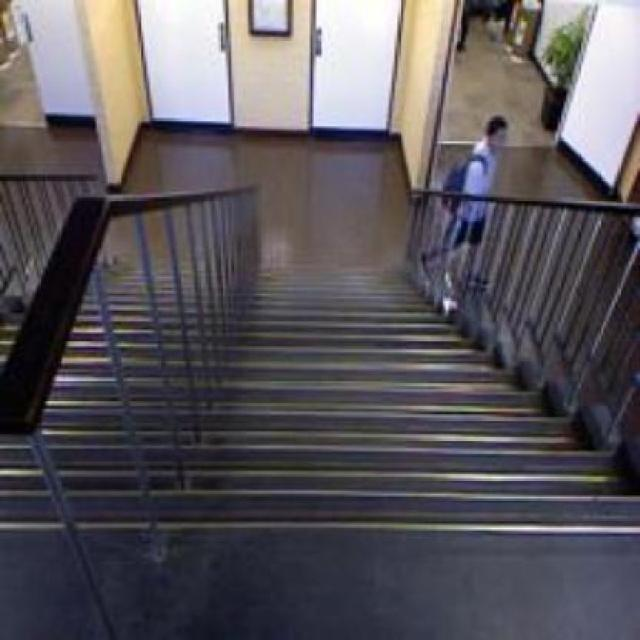stair: (217, 230, 486, 528)
